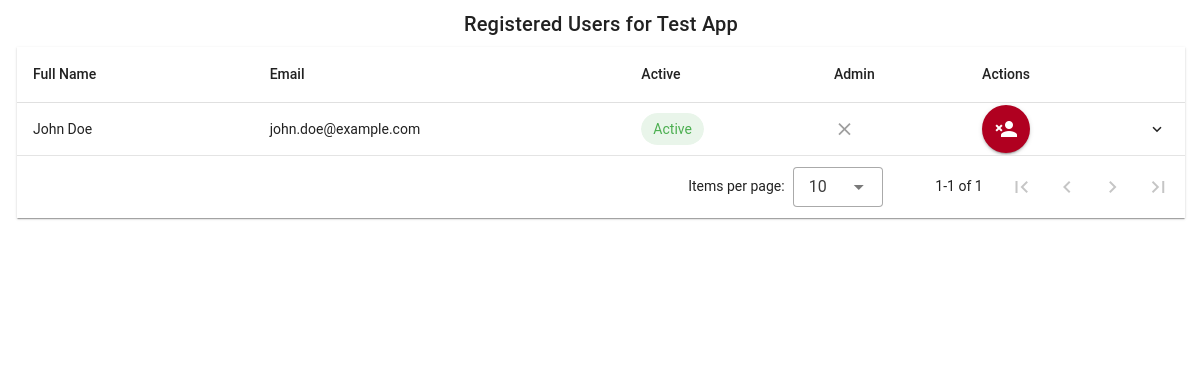
Scenario: SelectedAppUsersForm.vue › Expanded Row Rendering › should expand row when expand button is clicked
Check: the element that starts with "Full Name" is shown, box [17,47,1185,218]
Click the 2nd button at (1157, 129), box [1137,109,1177,149]
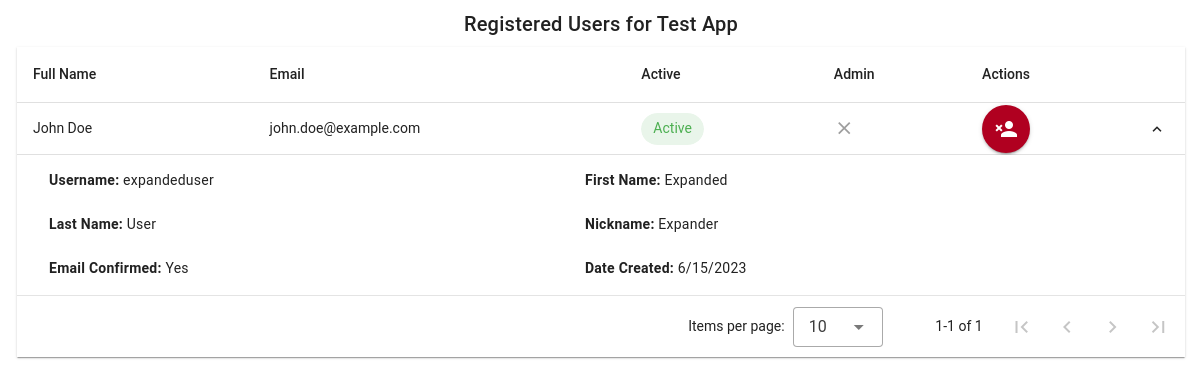
Check: the element that starts with "Username:" shows "expandeduser", box [119,172,214,188]
